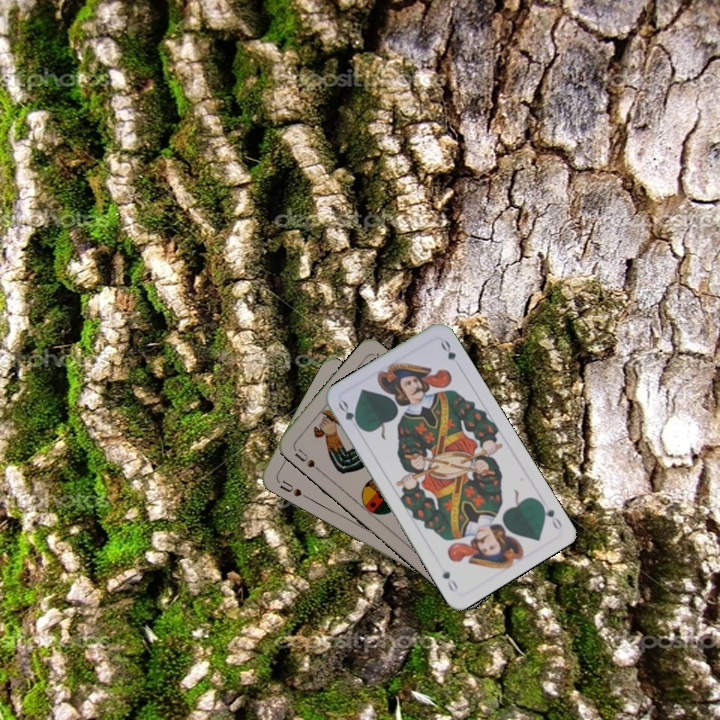GO: (334, 396, 365, 434), (534, 497, 565, 532)
SU: (289, 443, 323, 474), (273, 475, 304, 499)
